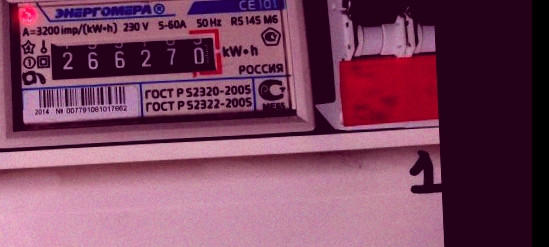0: (191, 44, 204, 66)
2: (59, 49, 74, 70), (138, 46, 151, 68)
6: (85, 50, 99, 70), (111, 49, 125, 68)
7: (163, 45, 177, 67)
screen: (39, 24, 228, 89)
